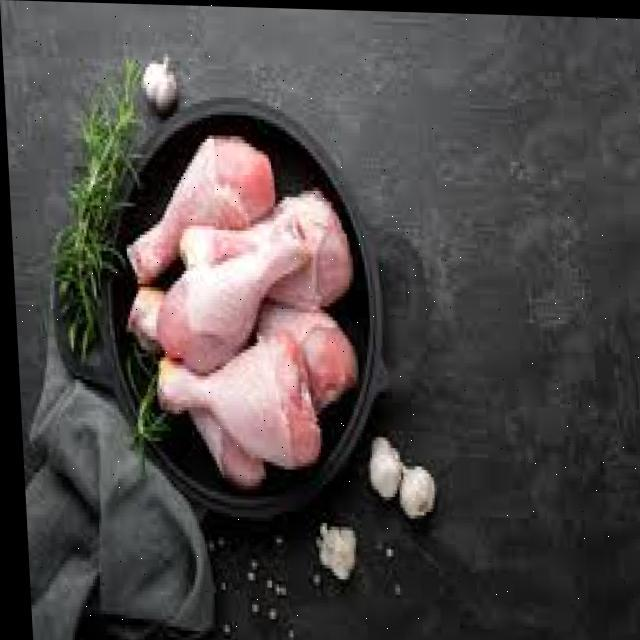leg: (156, 218, 318, 372), (112, 138, 272, 276), (147, 347, 324, 468), (175, 202, 346, 308), (256, 293, 356, 404)
